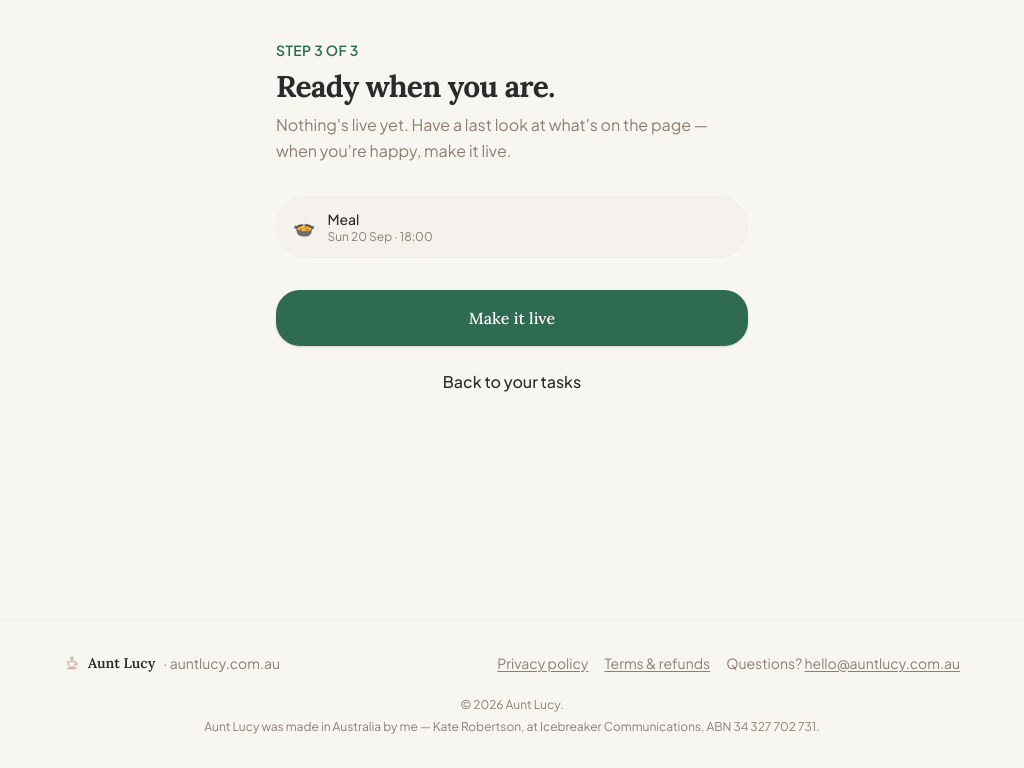
Test case: going live takes the button AND the confirm › 'Not yet' closes the confirm and publishes nothing
The width and height of the screenshot is (1024, 768).
Click the button "Make it live". click: (512, 318)
box: [276, 290, 748, 346]
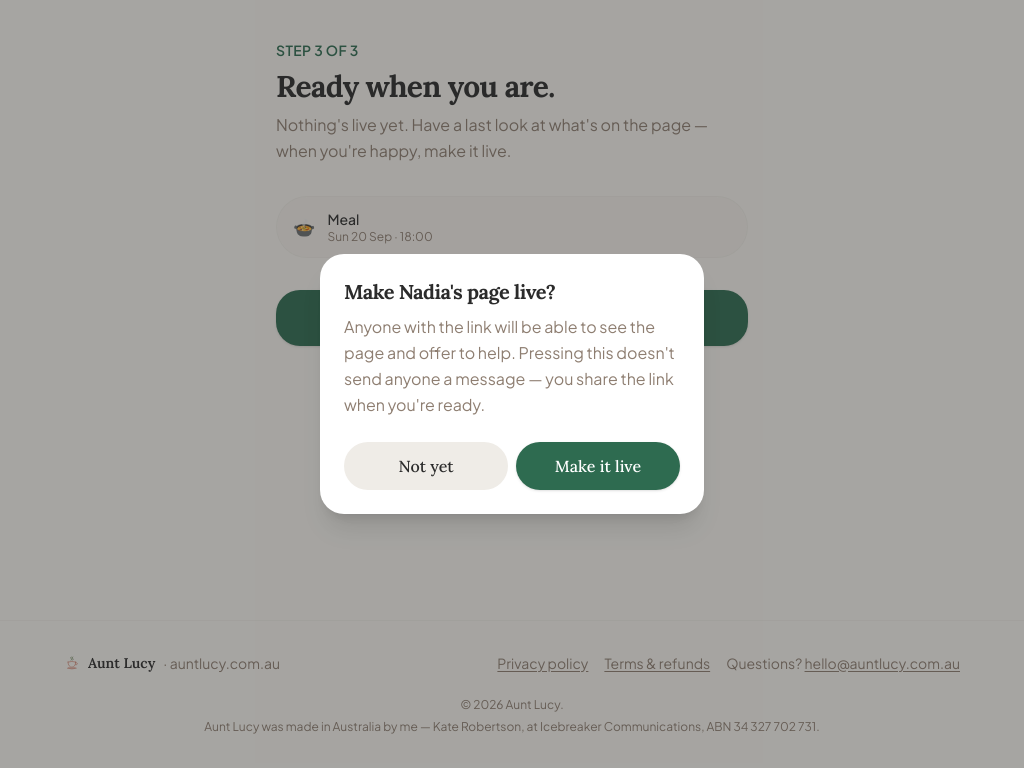
Click the button "Not yet". click: (426, 466)
box: [344, 442, 508, 490]
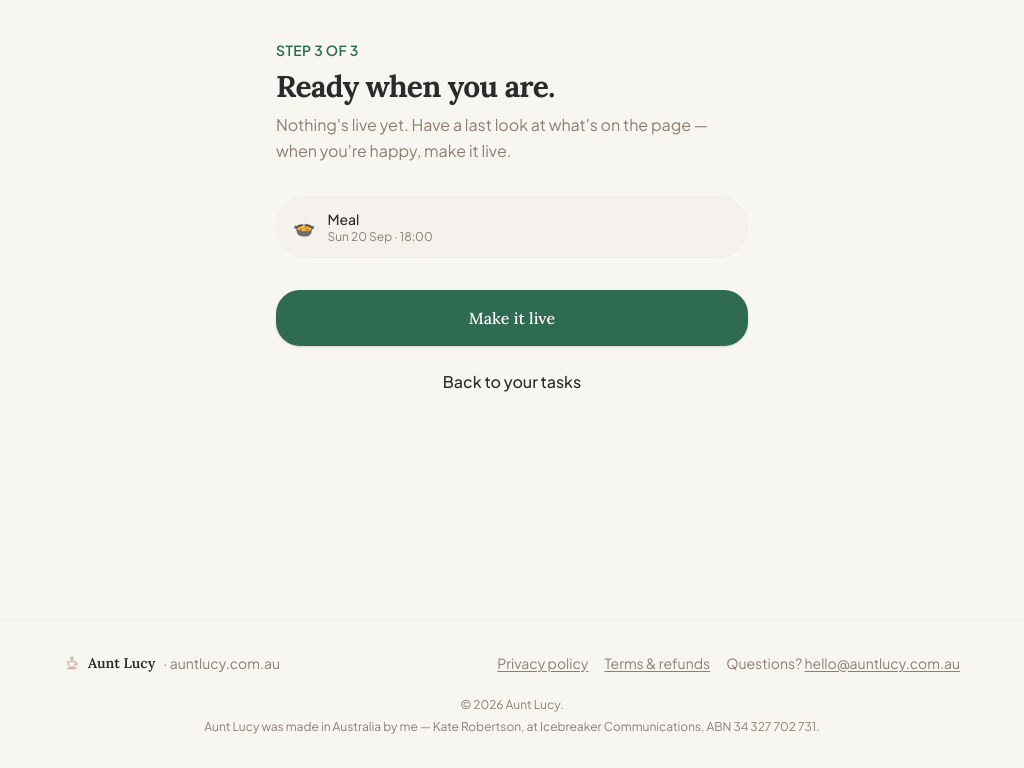
Check: the element with test id "publish-step" is shown, box [256, 0, 768, 446]
Check: the dialog is gone
